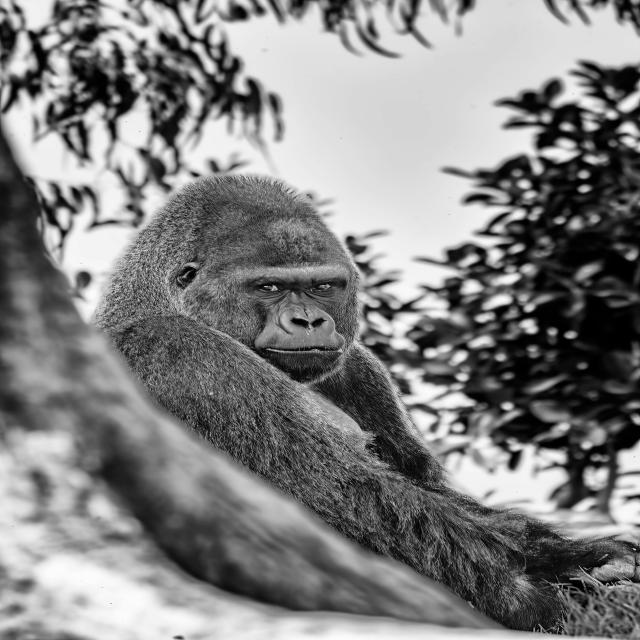Gorilla: (99, 183, 574, 621)
